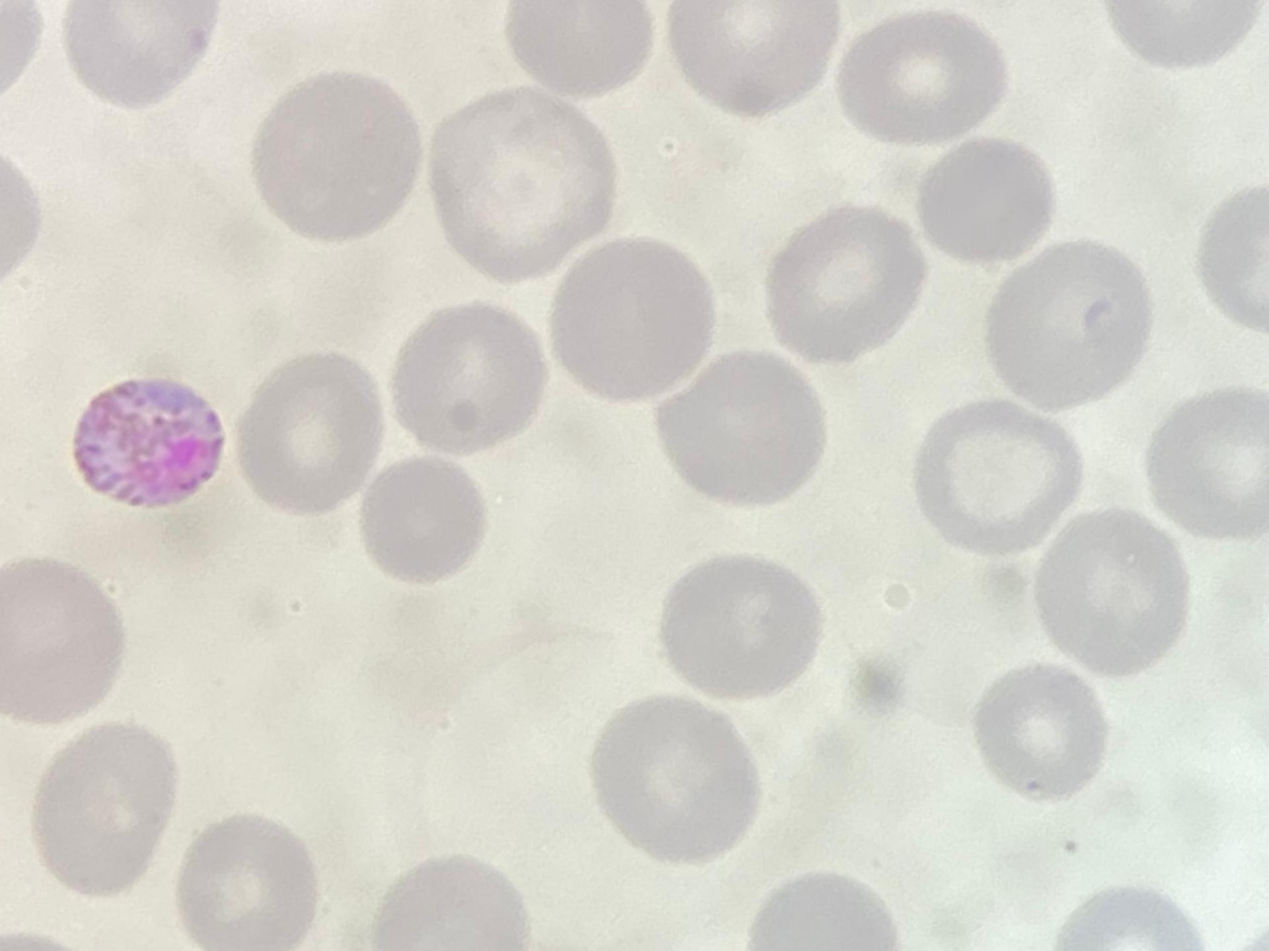Infected: (73, 377, 222, 505)
Uninfected: (428, 91, 620, 283), (251, 71, 424, 241), (987, 242, 1151, 406), (589, 699, 755, 861), (549, 239, 715, 400), (656, 350, 824, 506), (1034, 511, 1187, 675), (913, 400, 1078, 552), (30, 724, 175, 895), (767, 209, 922, 361), (391, 305, 545, 457), (660, 554, 819, 700), (237, 354, 383, 510), (838, 12, 1009, 144), (3, 560, 124, 719), (174, 816, 317, 949), (668, 0, 834, 113), (972, 666, 1104, 801), (1147, 390, 1269, 536), (911, 139, 1054, 263), (358, 457, 489, 584), (67, 2, 217, 107), (367, 856, 527, 951), (506, 2, 651, 99)
